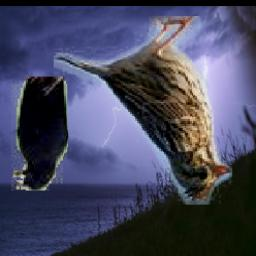Crow: (10, 78, 69, 191)
Sparrow: (55, 17, 233, 206)
